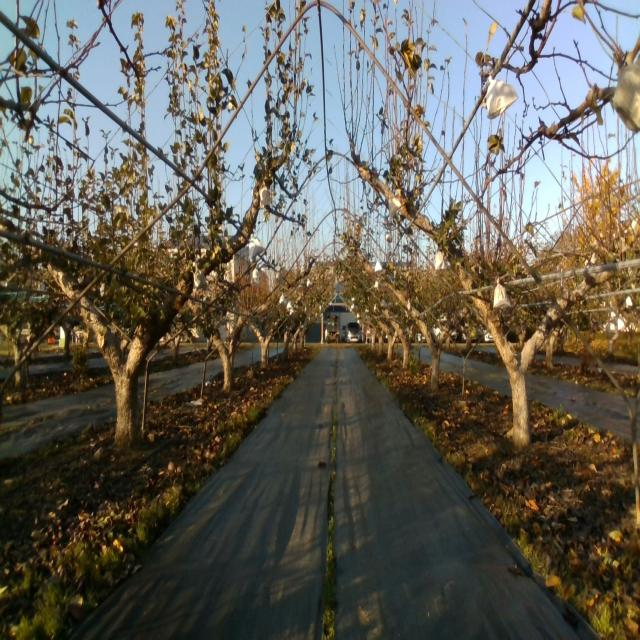pearbags: (612, 55, 640, 136), (486, 70, 518, 119), (493, 276, 510, 310), (249, 230, 265, 262), (192, 262, 208, 291), (259, 183, 275, 210), (387, 197, 403, 220), (434, 246, 448, 272)
